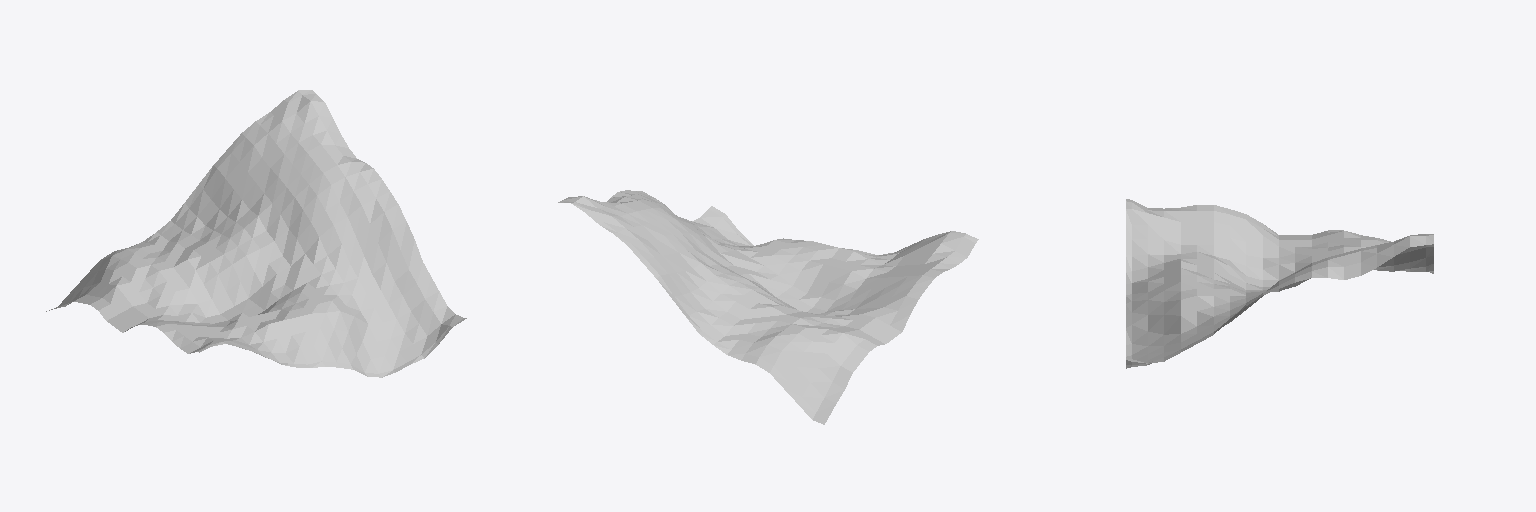
Rendered from terrain_-28_-5.obj.
The picture shows the model from 3 angles: view 1: azimuth 30°, elevation 25°; view 2: azimuth 150°, elevation 25°; view 3: azimuth 270°, elevation 25°; orthographic projection.
Visible parts, largest first — view 1: terrain_-28_-5_Plane.021; view 2: terrain_-28_-5_Plane.021; view 3: terrain_-28_-5_Plane.021.
Part boxes in pixels (x1,y1,x2,y2): terrain_-28_-5_Plane.021: (46,90,466,377); terrain_-28_-5_Plane.021: (558,190,978,424); terrain_-28_-5_Plane.021: (1126,199,1433,368).
Bounding box in the file's own units: 32 × 18.25 × 32.